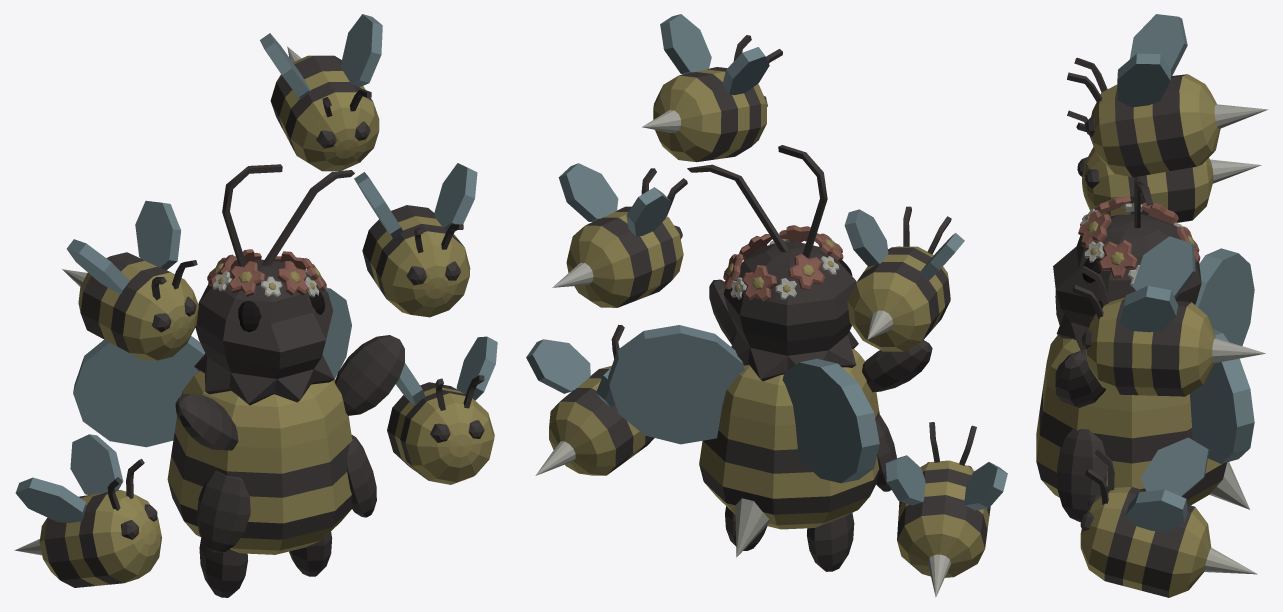
The model's file is Bee_RandomCapt2.fbx.
3 renders of one model, left to right at view 1: azimuth 30°, elevation 25°; view 2: azimuth 150°, elevation 25°; view 3: azimuth 270°, elevation 25°, orthographic. The views are drawn at different scales.
Visible parts, largest first — view 1: RandomCapt_6; view 2: RandomCapt_6; view 3: RandomCapt_6.
Boxes of the visible parts, x1,y1,x2,y2 form: RandomCapt_6: (14,14,497,597); RandomCapt_6: (526,14,1007,597); RandomCapt_6: (1036,14,1268,597).
Bounding box in the file's own units: 5.97 × 6.35 × 2.4.
